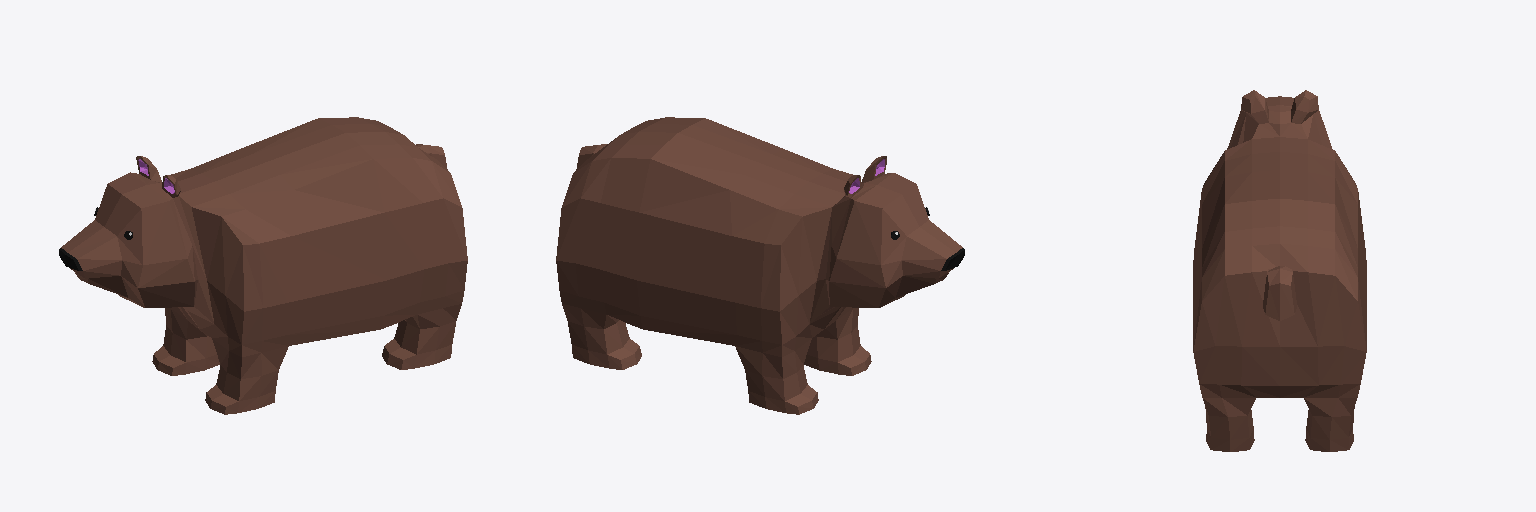
The model's file is Bear_01.obj.
The picture shows the model from 3 angles: view 1: azimuth 30°, elevation 25°; view 2: azimuth 150°, elevation 25°; view 3: azimuth 270°, elevation 25°; orthographic projection.
Parts seen in each view (by area): view 1: Cube.037_Cube.036; view 2: Cube.037_Cube.036; view 3: Cube.037_Cube.036.
Boxes of the visible parts, box(x1,y1,x2,y2) form: Cube.037_Cube.036: box(59, 117, 467, 414); Cube.037_Cube.036: box(556, 117, 964, 414); Cube.037_Cube.036: box(1193, 90, 1366, 451).
Bounding box in the file's own units: 330 × 191 × 130.